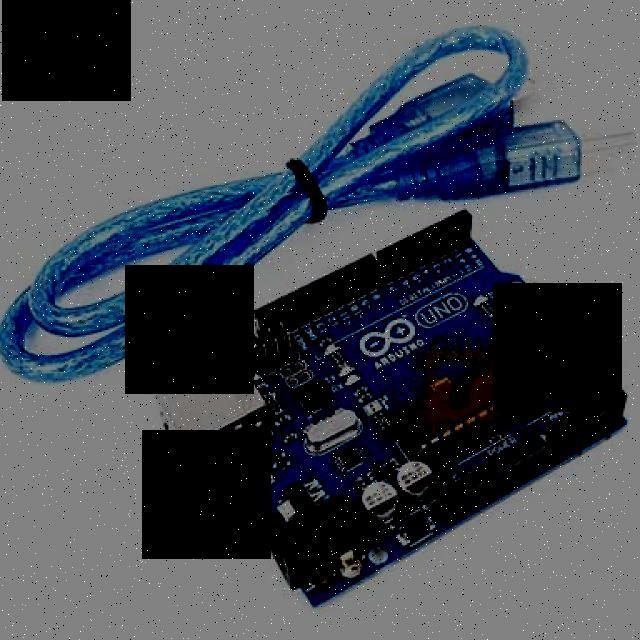arduino: (124, 210, 640, 617)
